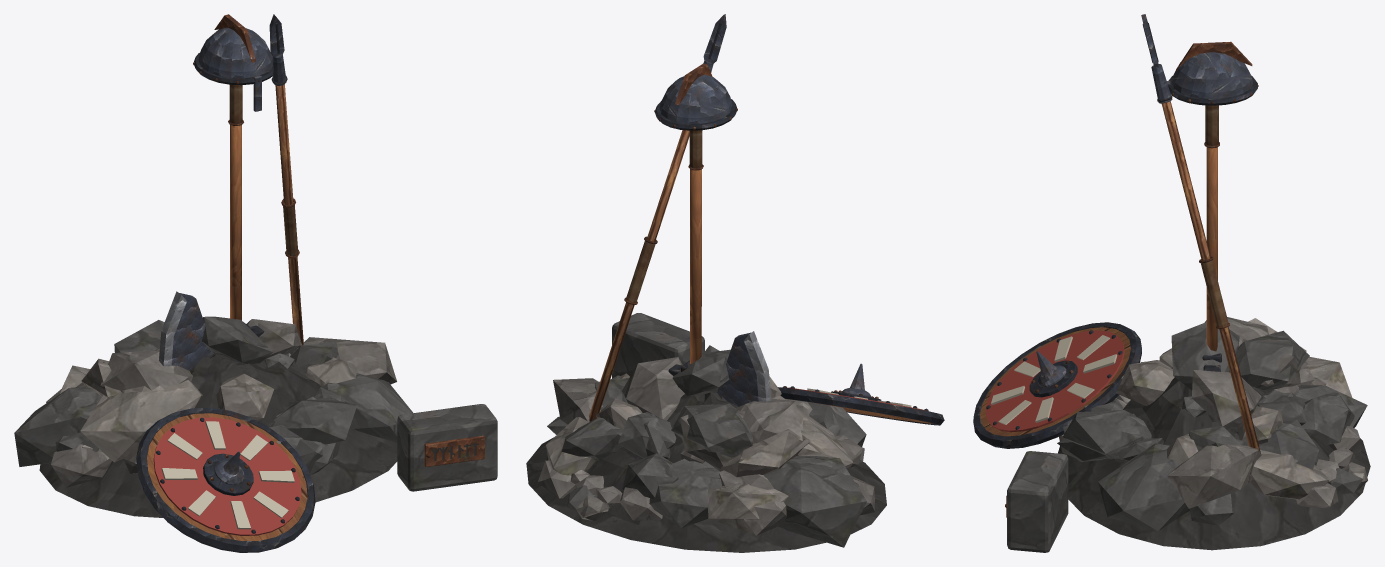
File: hs_last_stand_cairn.glb
3 renders of one model, left to right at view 1: azimuth 30°, elevation 25°; view 2: azimuth 150°, elevation 25°; view 3: azimuth 270°, elevation 25°, orthographic. The views are drawn at different scales.
Visible parts, largest first — view 1: model; view 2: model; view 3: model.
Boxes of the visible parts, <box> form: model: <box>14,14,497,552</box>; model: <box>526,14,944,552</box>; model: <box>973,14,1370,552</box>.
Bounding box in the file's own units: 1.35 × 1.6 × 1.25.
Materials: 15 (12 with a texture image).
